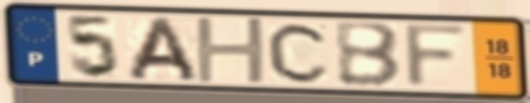5: (62, 13, 122, 80)
A: (124, 14, 202, 84)
B: (331, 20, 404, 90)
C: (264, 20, 333, 85)
F: (402, 21, 472, 91)
H: (191, 16, 271, 86)
